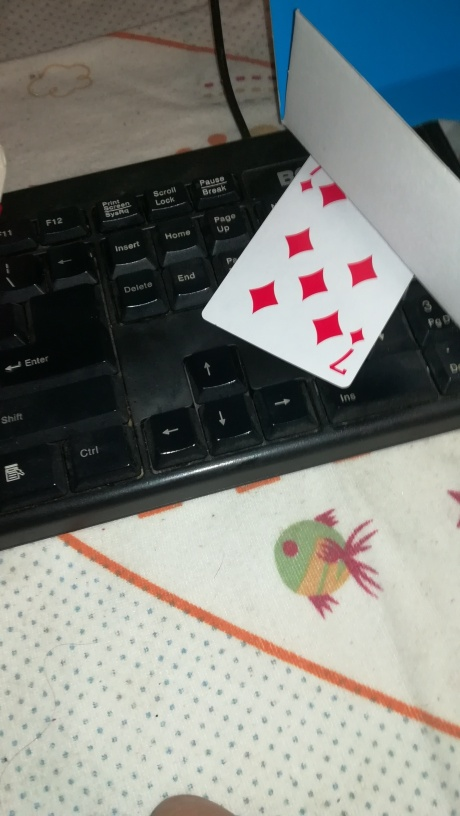fk 7: (200, 152, 439, 386)
